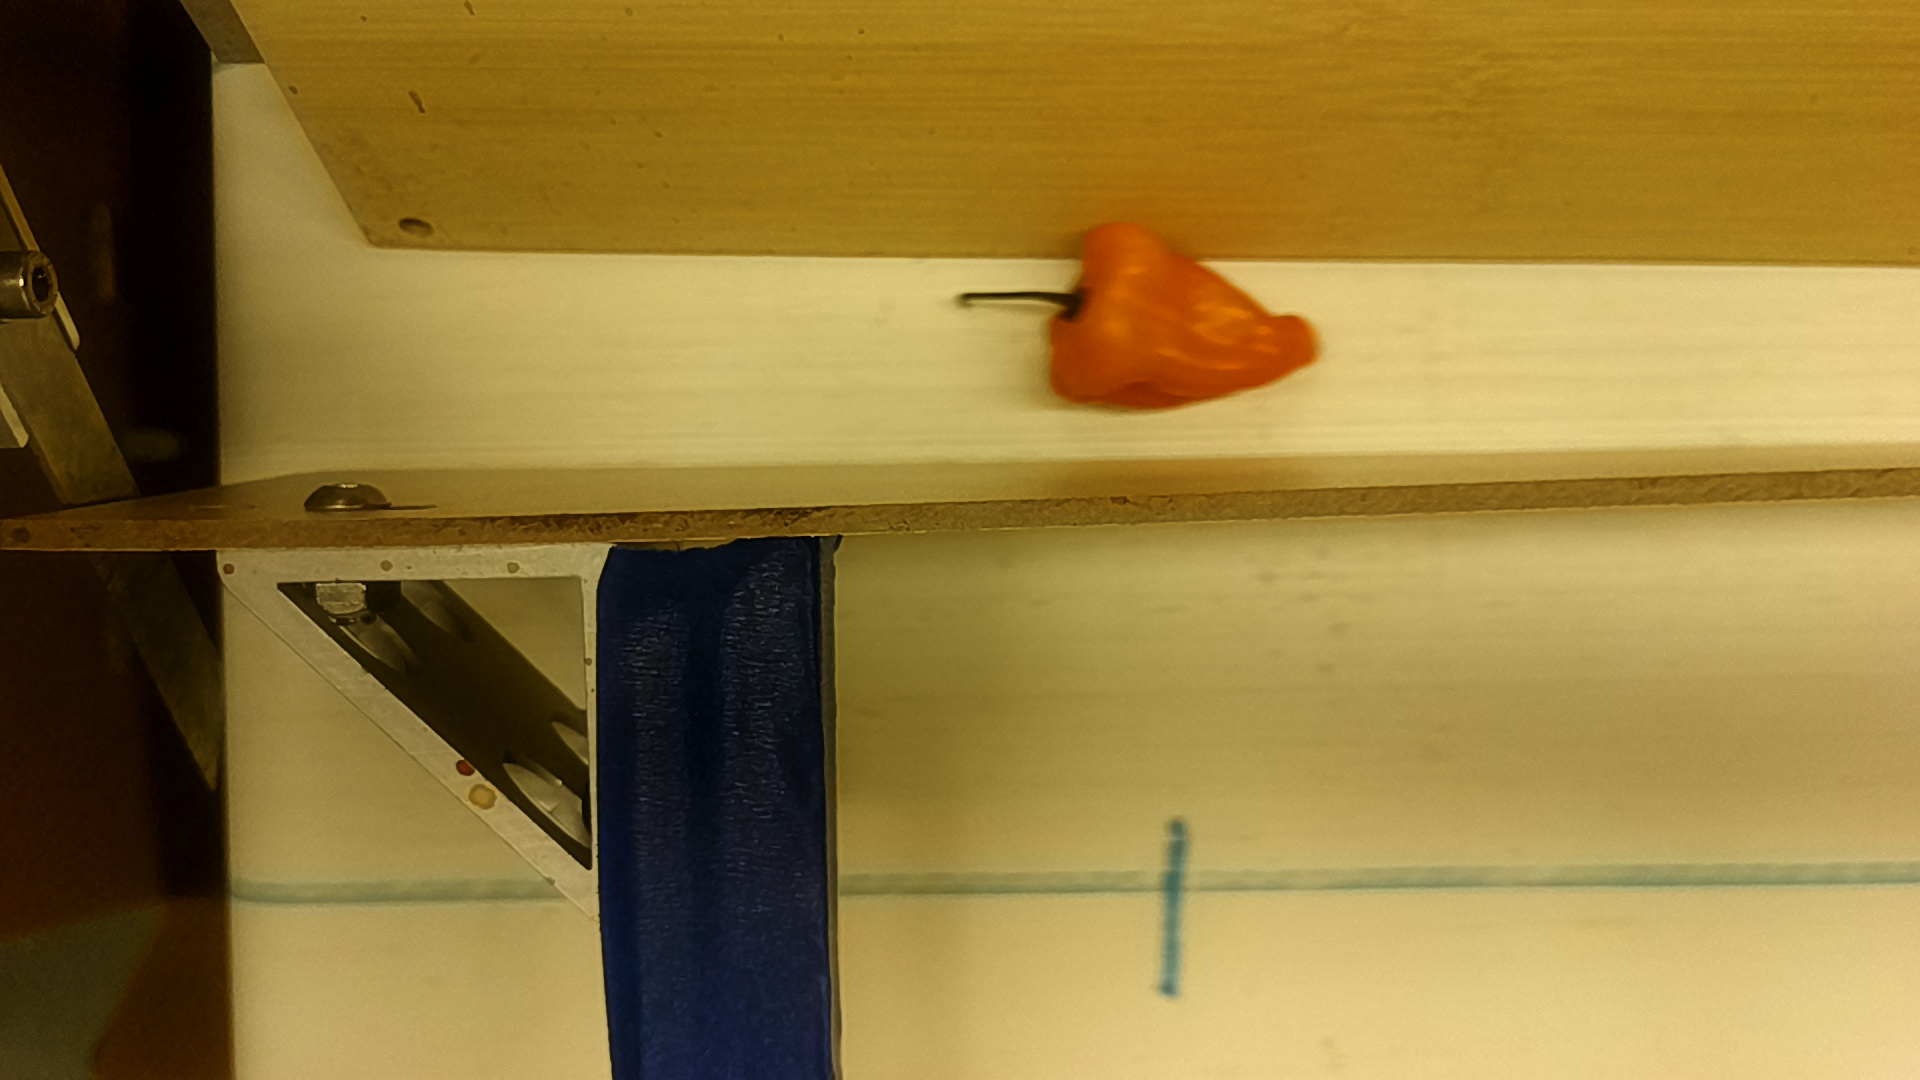Cut Point: (1059, 218, 1109, 413)
